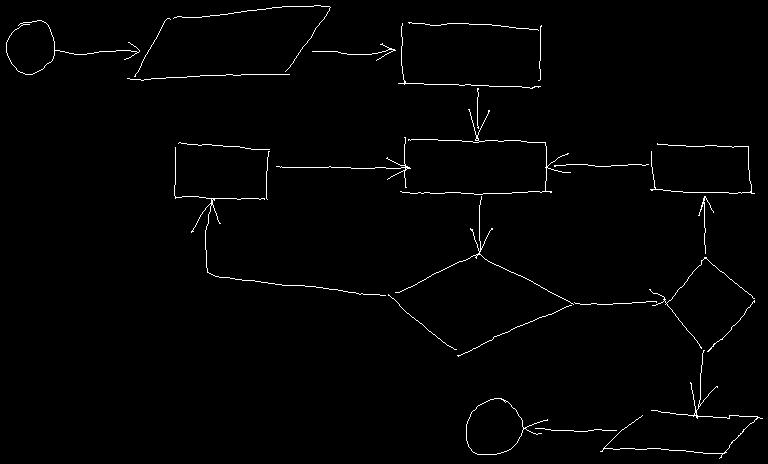arrow: (191, 199, 385, 295), (276, 157, 410, 179), (545, 153, 648, 172), (690, 350, 717, 418), (574, 289, 665, 305), (54, 42, 139, 59), (312, 43, 395, 60), (523, 419, 616, 434), (470, 196, 492, 258), (468, 88, 489, 140), (698, 196, 713, 253)
connection: (466, 398, 523, 454), (6, 20, 54, 74)
data: (127, 5, 330, 80), (600, 410, 762, 458)
decision: (388, 253, 573, 356), (663, 257, 754, 351)
process: (398, 22, 541, 88), (400, 137, 551, 194), (174, 142, 269, 199), (650, 143, 754, 193)
